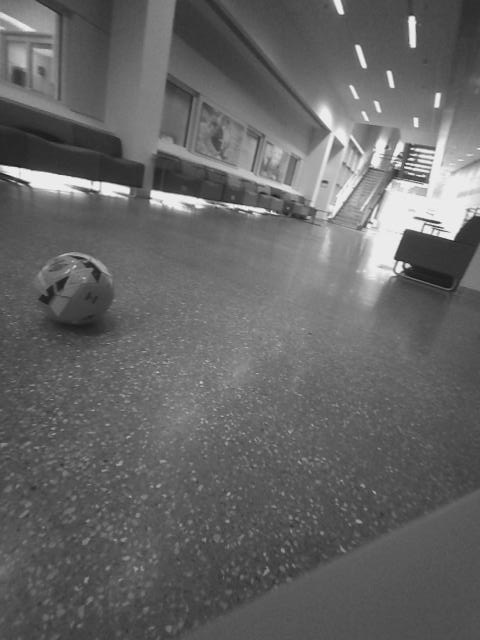ball: (29, 250, 117, 327)
